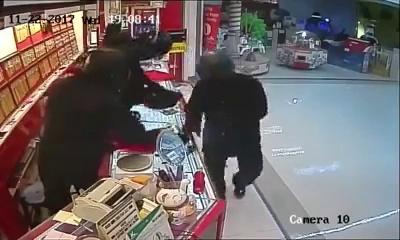helmet: (194, 47, 236, 86)
